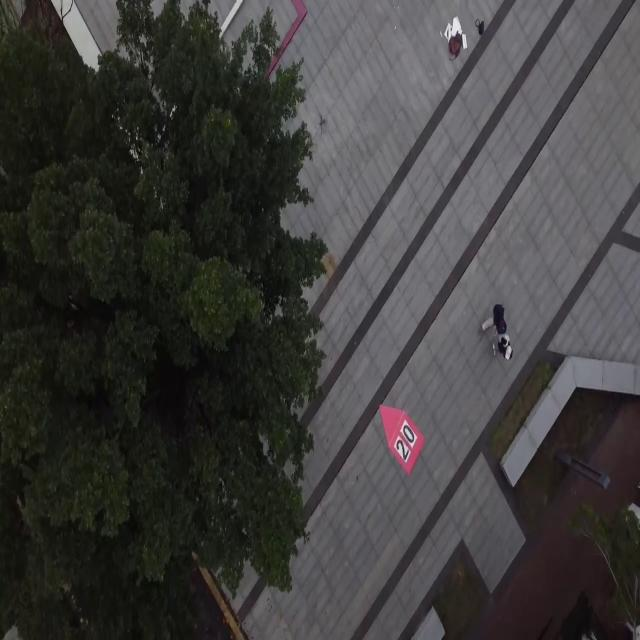-sign-: (378, 402, 424, 476)
